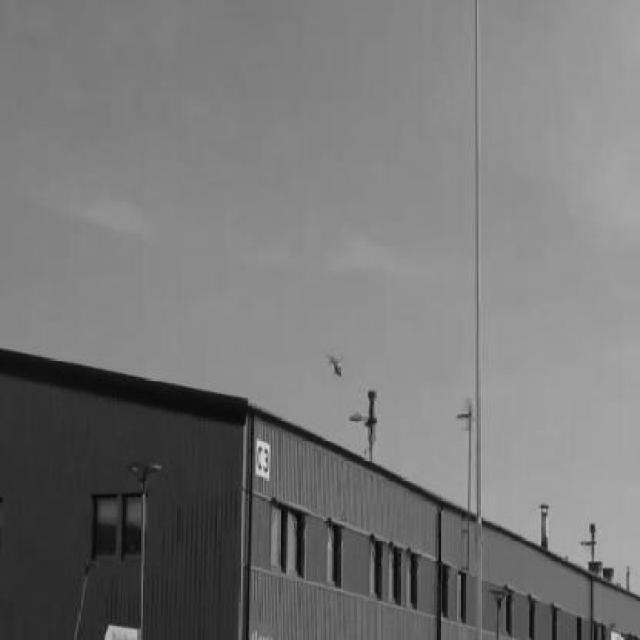helikopter: (318, 346, 352, 384)
